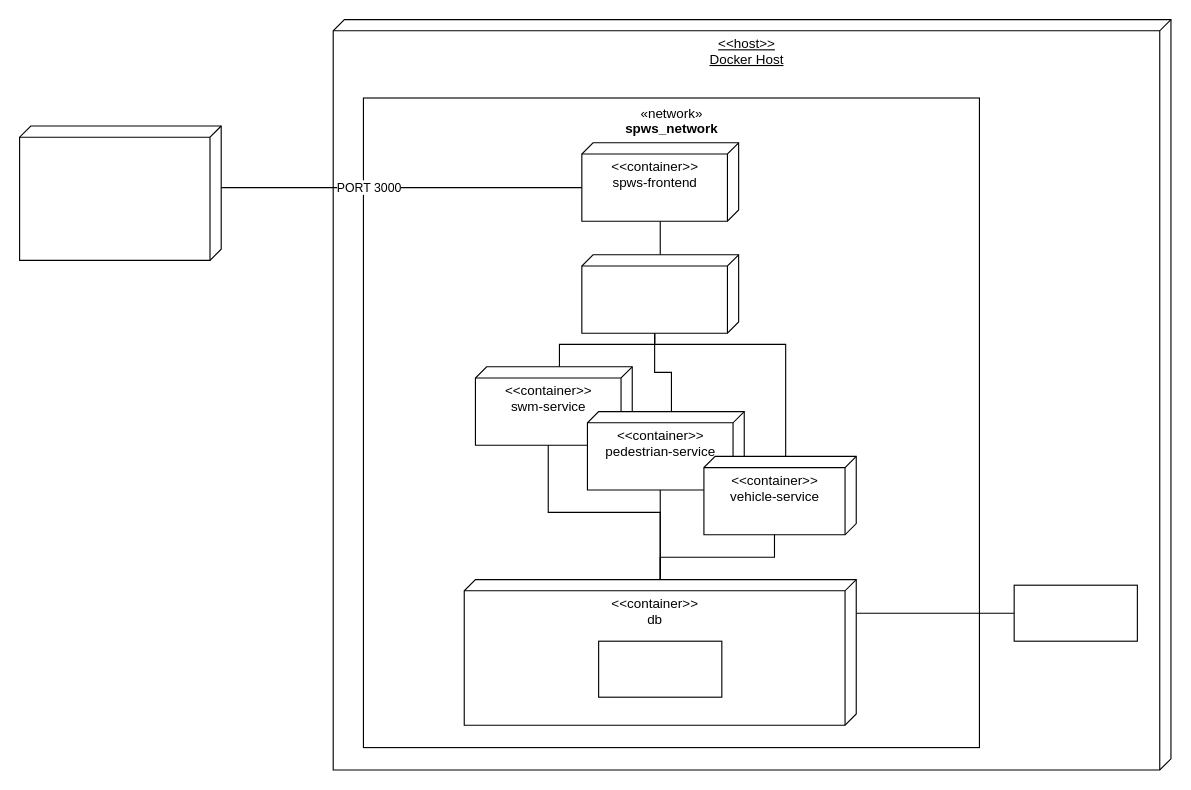
Image size: 1191x790. Some labels were removed from this diagram. Each missing label, with the centre of its shape:
<<container>> api-gateway: the point at 660,293
<<device>> Client Browser: the point at 119,192
«image» mySQL: the point at 660,668
«volume» db: the point at 1075,612
